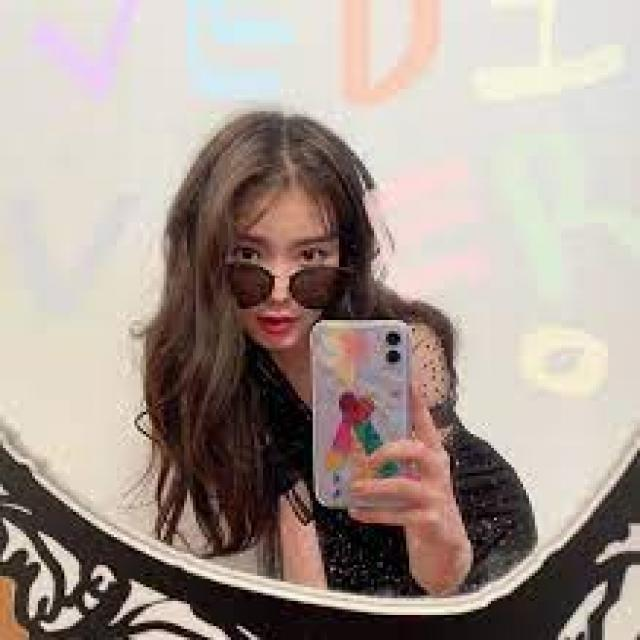Phone: (307, 319, 413, 511)
